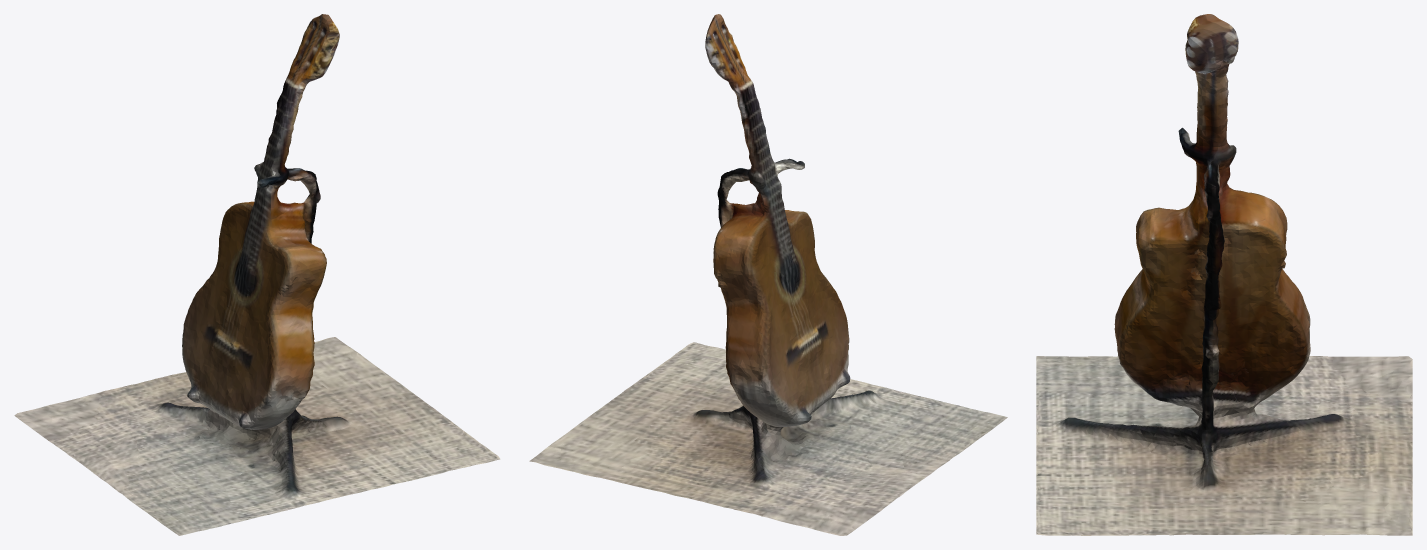
File: mbo_plucked-instruments_requinto.glb
3 views of the same model, side by side, from view 1: azimuth 30°, elevation 25°; view 2: azimuth 150°, elevation 25°; view 3: azimuth 270°, elevation 25° (orthographic). The views are drawn at different scales.
Size of the model in its own units: 0.7855 by 0.9619 by 0.7029.
1 material, 1 textured.
